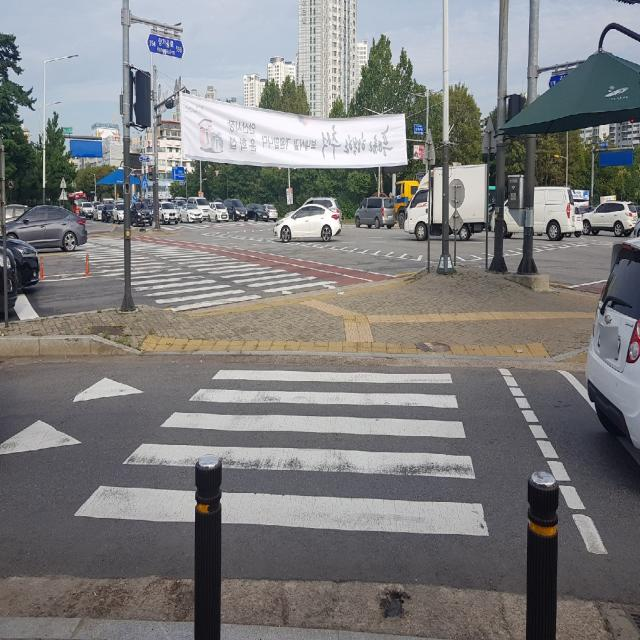빨간불: (149, 166, 152, 180)
횡단보도: (74, 370, 489, 538), (88, 240, 328, 300)
